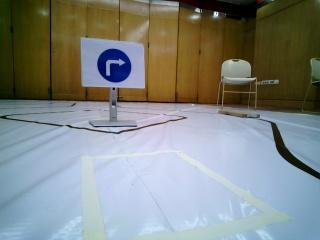right: (83, 41, 138, 85)
